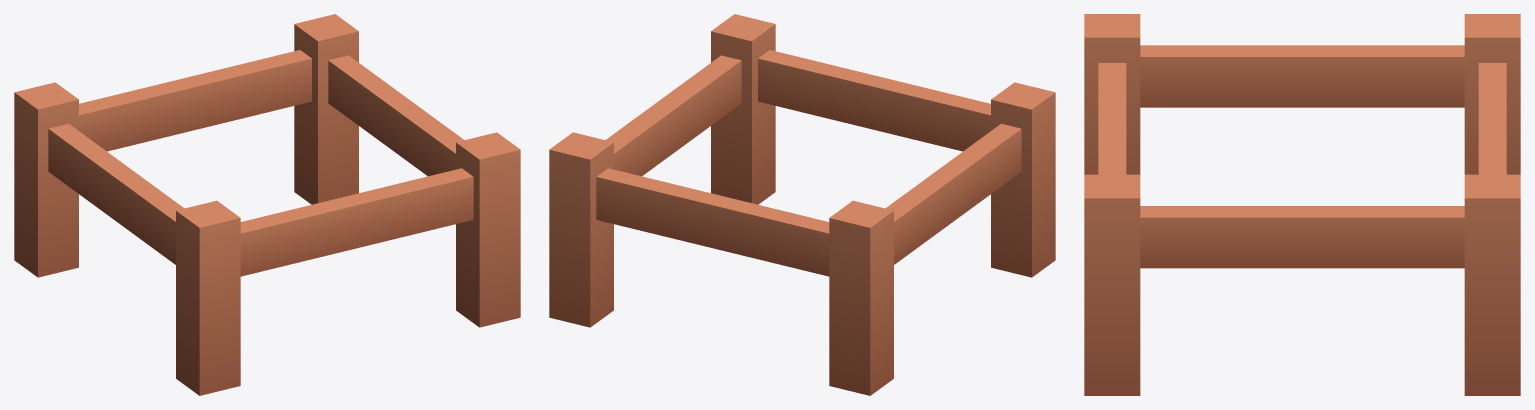
Rendered from wood-structure.fbx.
The picture shows the model from 3 angles, left to right: view 1: azimuth 30°, elevation 25°; view 2: azimuth 150°, elevation 25°; view 3: azimuth 270°, elevation 25°; orthographic projection. The views are drawn at different scales.
Parts seen in each view (by area): view 1: wood-structure; view 2: wood-structure; view 3: wood-structure.
Part boxes in pixels (x1,y1,x2,y2): wood-structure: (14, 14, 520, 395); wood-structure: (549, 14, 1055, 395); wood-structure: (1084, 14, 1520, 395).
Bounding box in the file's own units: 100 × 50 × 100.
